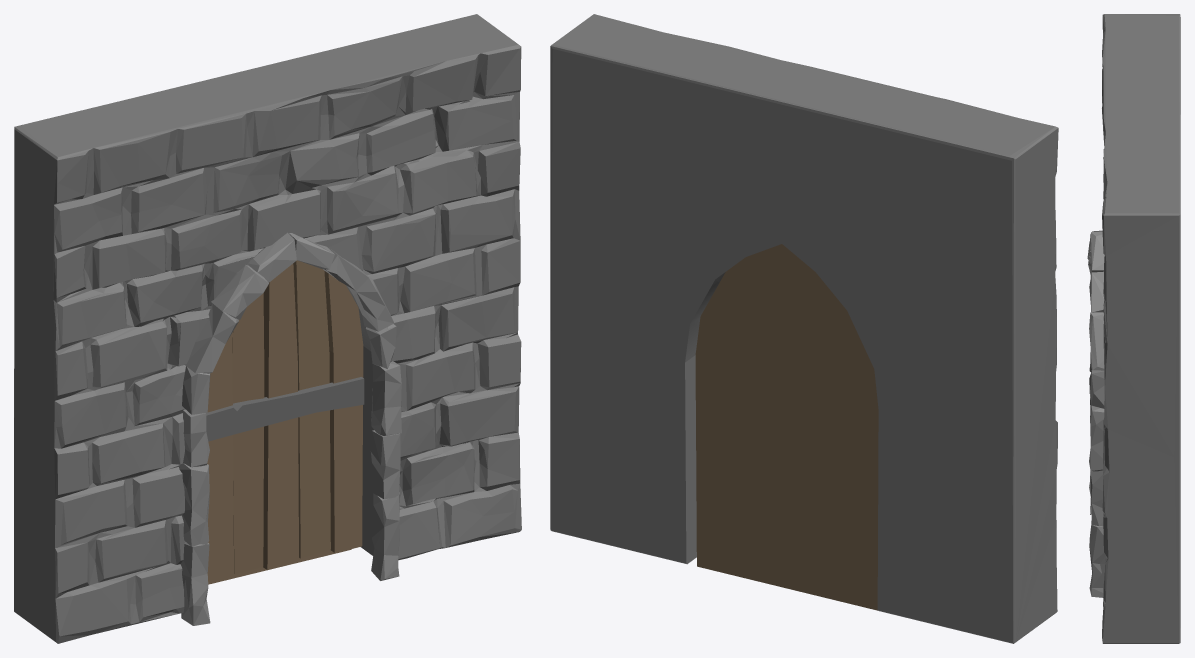
File: modular_wall_3x3m_door_a.FBX
The picture shows the model from 3 angles, left to right: view 1: azimuth 30°, elevation 25°; view 2: azimuth 150°, elevation 25°; view 3: azimuth 270°, elevation 25°; orthographic projection. The views are drawn at different scales.
Visible parts, largest first — view 1: modular_wall_3x3m_door_a; view 2: modular_wall_3x3m_door_a; view 3: modular_wall_3x3m_door_a.
Boxes of the visible parts, x1,y1,x2,y2 form: modular_wall_3x3m_door_a: (14,14,521,643); modular_wall_3x3m_door_a: (550,14,1058,643); modular_wall_3x3m_door_a: (1087,14,1180,643).
Size of the model in its own units: 3 by 3.07 by 0.5872.
